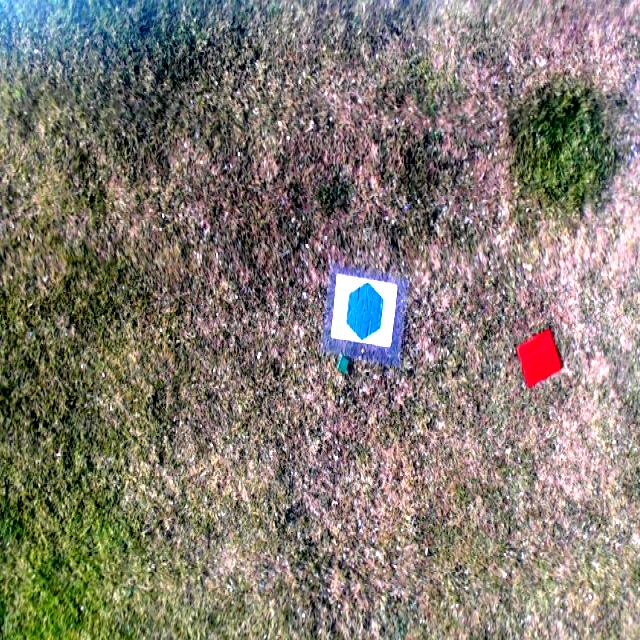blue_hexagon: (345, 279, 384, 340)
red_square: (516, 328, 563, 388)
